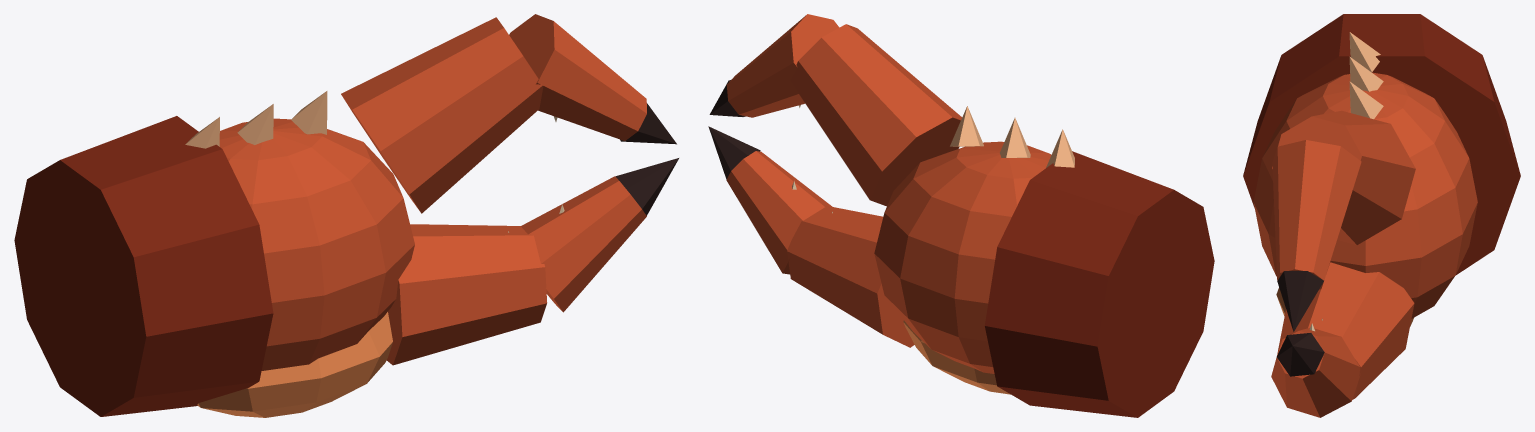
Rendered from clawfolk_claw_l.glb.
3 renders of one model, left to right at view 1: azimuth 30°, elevation 25°; view 2: azimuth 150°, elevation 25°; view 3: azimuth 270°, elevation 25°, orthographic. The views are drawn at different scales.
Parts seen in each view (by area): view 1: clawfolk_claw_l; view 2: clawfolk_claw_l; view 3: clawfolk_claw_l.
Part boxes in pixels (<box>): clawfolk_claw_l: <box>14,14,678,417</box>; clawfolk_claw_l: <box>708,14,1214,417</box>; clawfolk_claw_l: <box>1243,14,1520,417</box>.
Size of the model in its own units: 0.7393 by 0.44 by 0.342.
